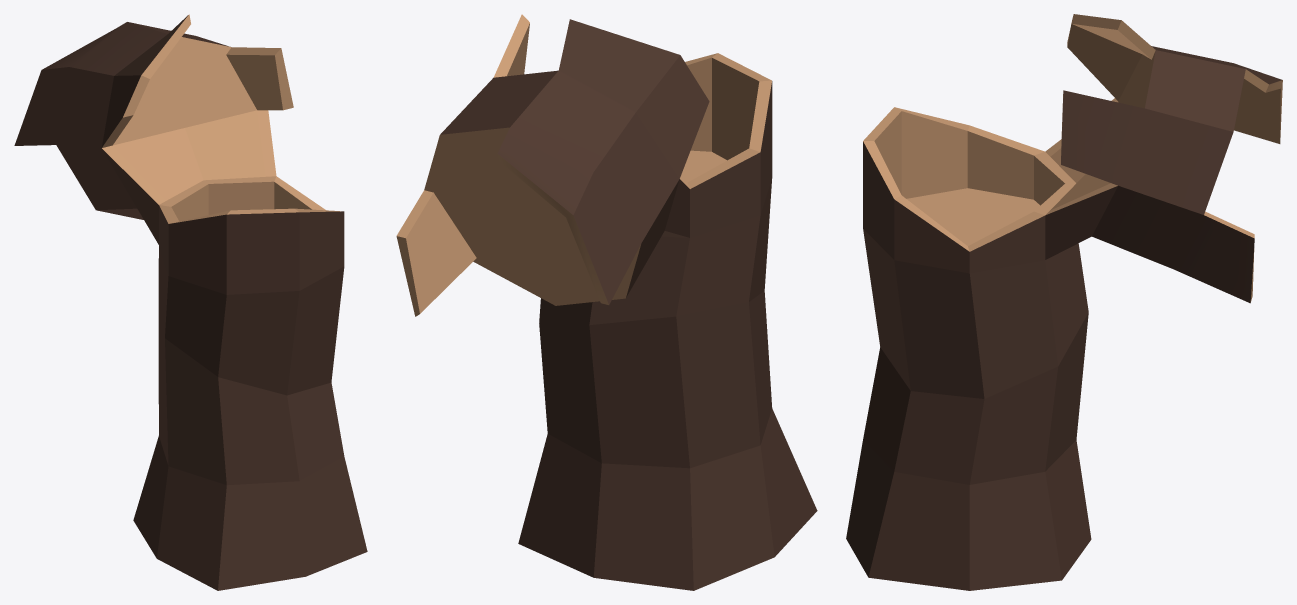
The model's file is Tree Stump Snap.fbx.
The picture shows the model from 3 angles, left to right: view 1: azimuth 30°, elevation 25°; view 2: azimuth 150°, elevation 25°; view 3: azimuth 270°, elevation 25°; orthographic projection. The views are drawn at different scales.
Visible parts, largest first — view 1: Log_Stump_Snap; view 2: Log_Stump_Snap; view 3: Log_Stump_Snap.
Boxes of the visible parts, bbox=[...] form: Log_Stump_Snap: bbox=[14, 14, 367, 590]; Log_Stump_Snap: bbox=[396, 14, 817, 590]; Log_Stump_Snap: bbox=[846, 14, 1282, 590].
Bounding box in the file's own units: 1.19 × 2.78 × 2.11.
